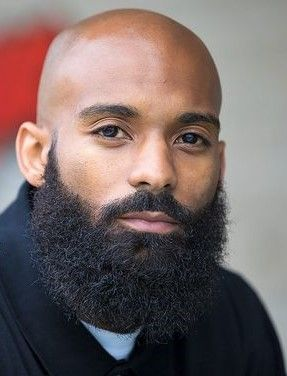bare: (44, 145, 222, 302)
